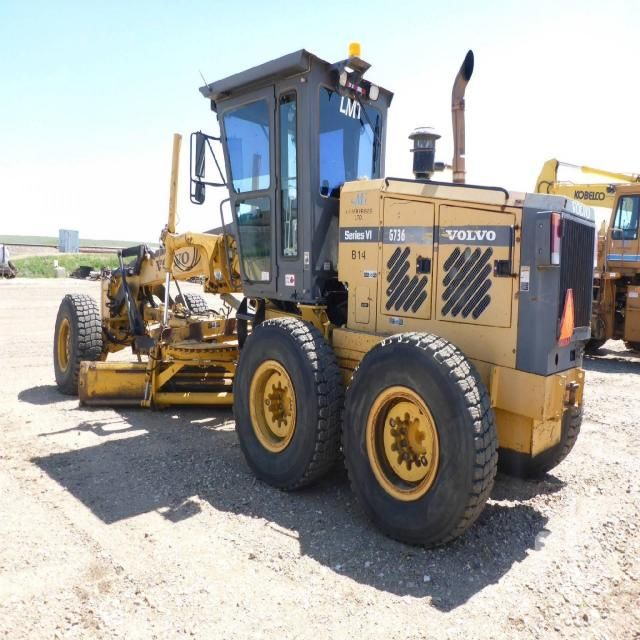Grader: (37, 46, 618, 532)
